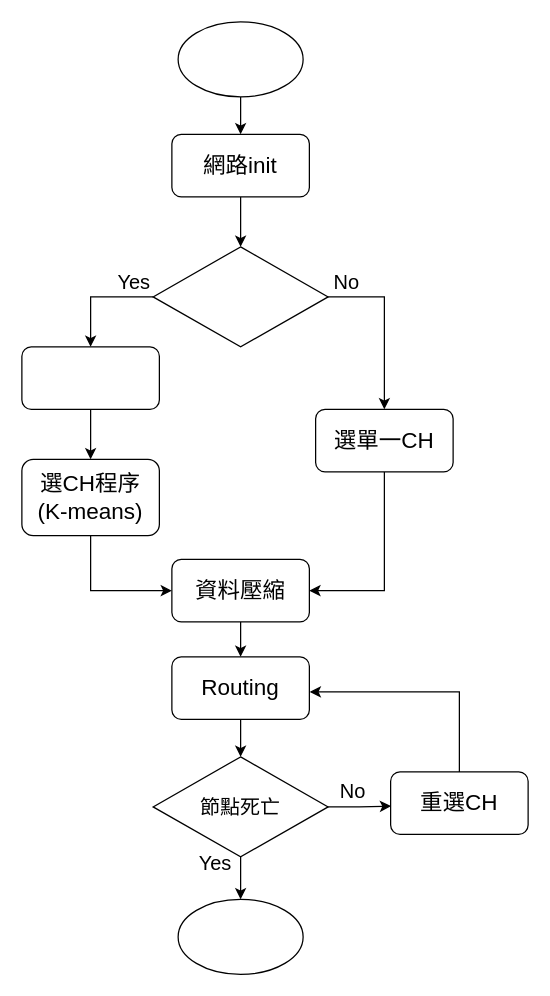
Image size: 550x996. Some labels were removed from this diagram. The shapes that lost their labels are listed below. From the top down, each one's box as (x1, y1, x2, y2) in pixels, then its label:
(177, 21, 303, 97): start
(152, 246, 328, 347): 區域密度>Dth
(21, 346, 159, 409): 選多個CH
(177, 898, 303, 974): end
